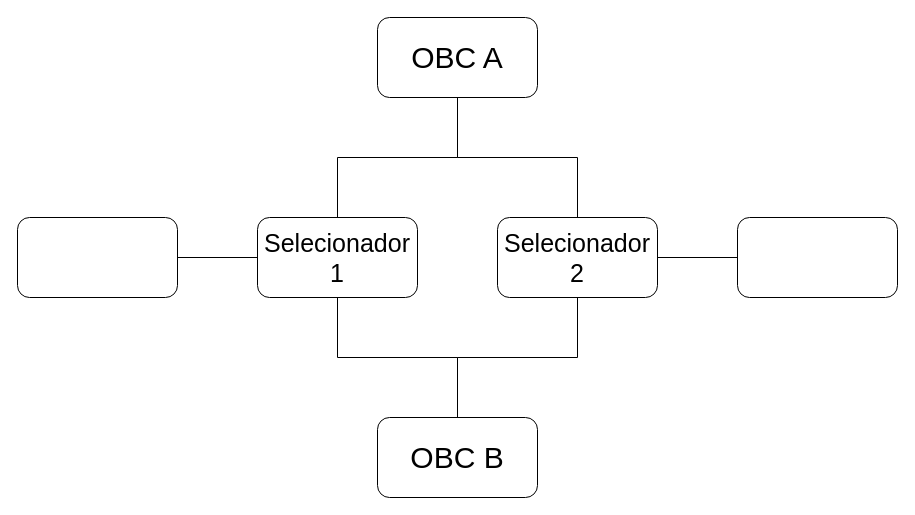
The diagram is 915 pixels wide and 515 high, and some of its shapes have lost their labels. The shapes that lost their labels are listed below. From the top down, each one's box as (x1, y1, x2, y2) in pixels, then its label:
(16, 216, 178, 298): Sensor 1
(736, 216, 898, 298): Sensor 2
